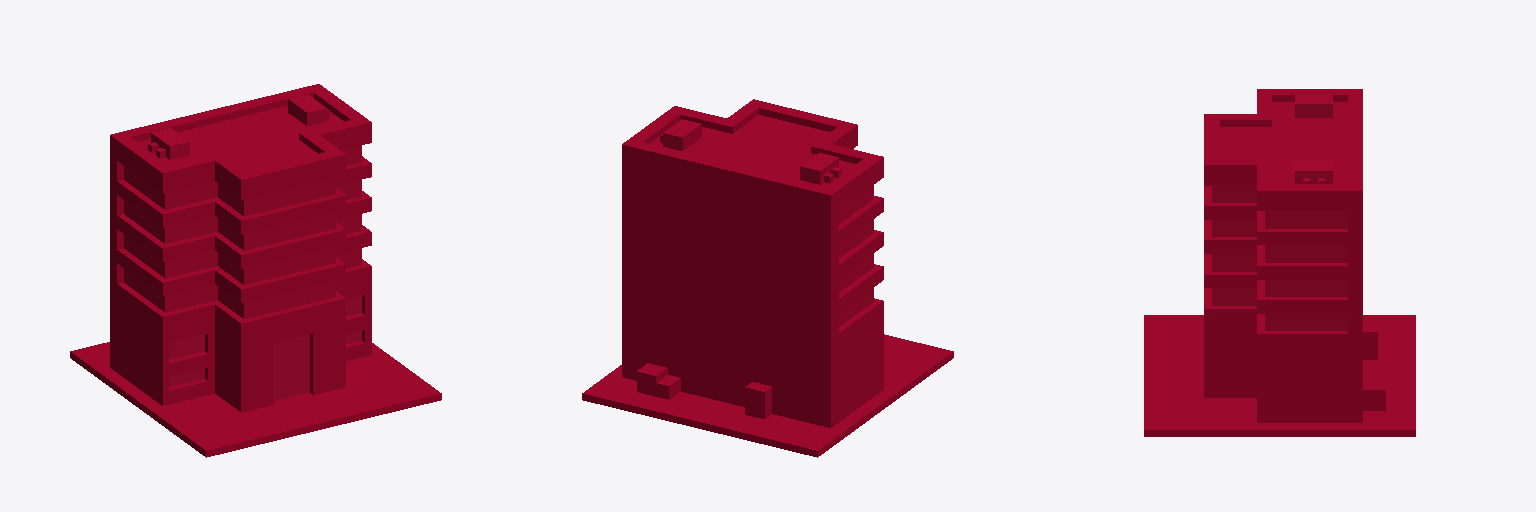
3 views of the same model, side by side, from view 1: azimuth 30°, elevation 25°; view 2: azimuth 150°, elevation 25°; view 3: azimuth 270°, elevation 25° (orthographic).
Visible parts, largest first — view 1: 4; view 2: 4; view 3: 4.
Part boxes in pixels (x1,y1,x2,y2): 4: (70,84,441,457); 4: (582,99,953,457); 4: (1144,89,1415,436).
Size of the model in its own units: 36 by 36 by 36.
1 materials, 1 textured.